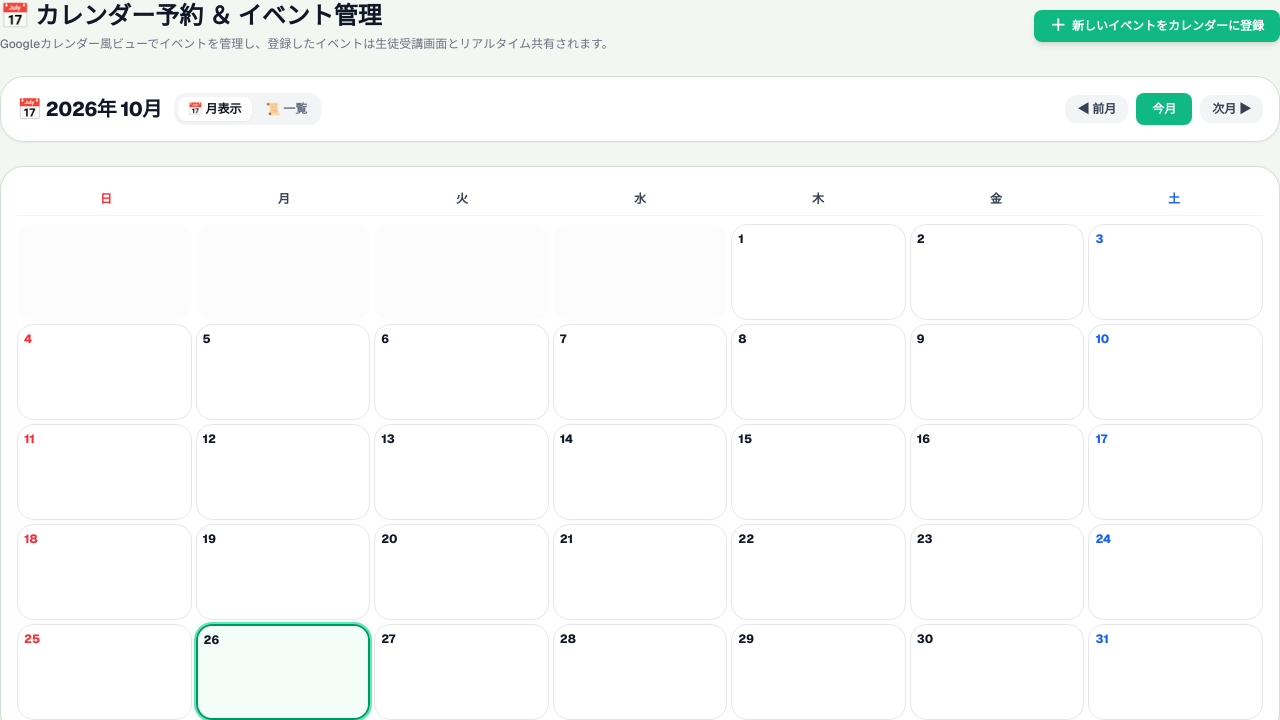
Test case: R-2: 書き込みエラーのトースト通知（正常系・異常系） › 1. イベント新規登録 (TeacherEventsView / useEvents.addEvent) › DB 書き込み成功時に成功トーストが表示される
Click the text "新しいイベントをカレンダーに登録" at [1168, 26], box [1072,18,1264,34]
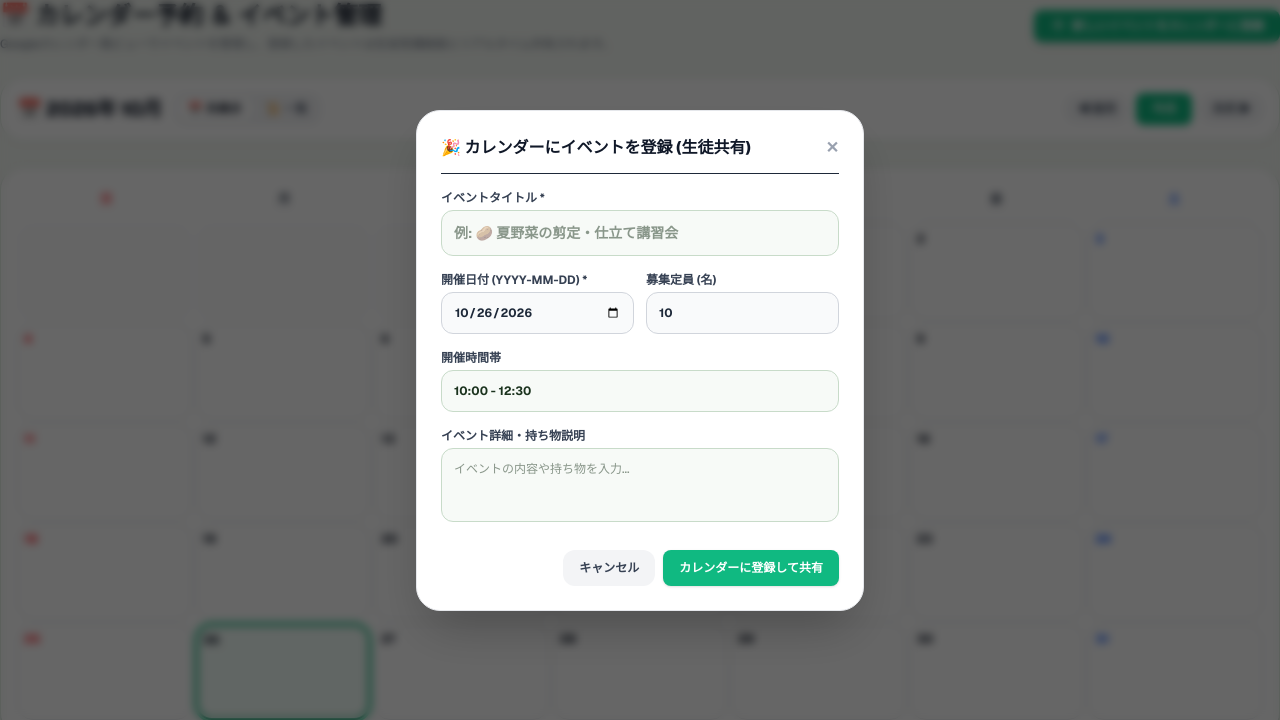
Type "秋の収穫祭" into the field with placeholder "例: 🥔 夏野菜の剪定・仕立て講習会" at [640, 232], box [441,210,839,256]
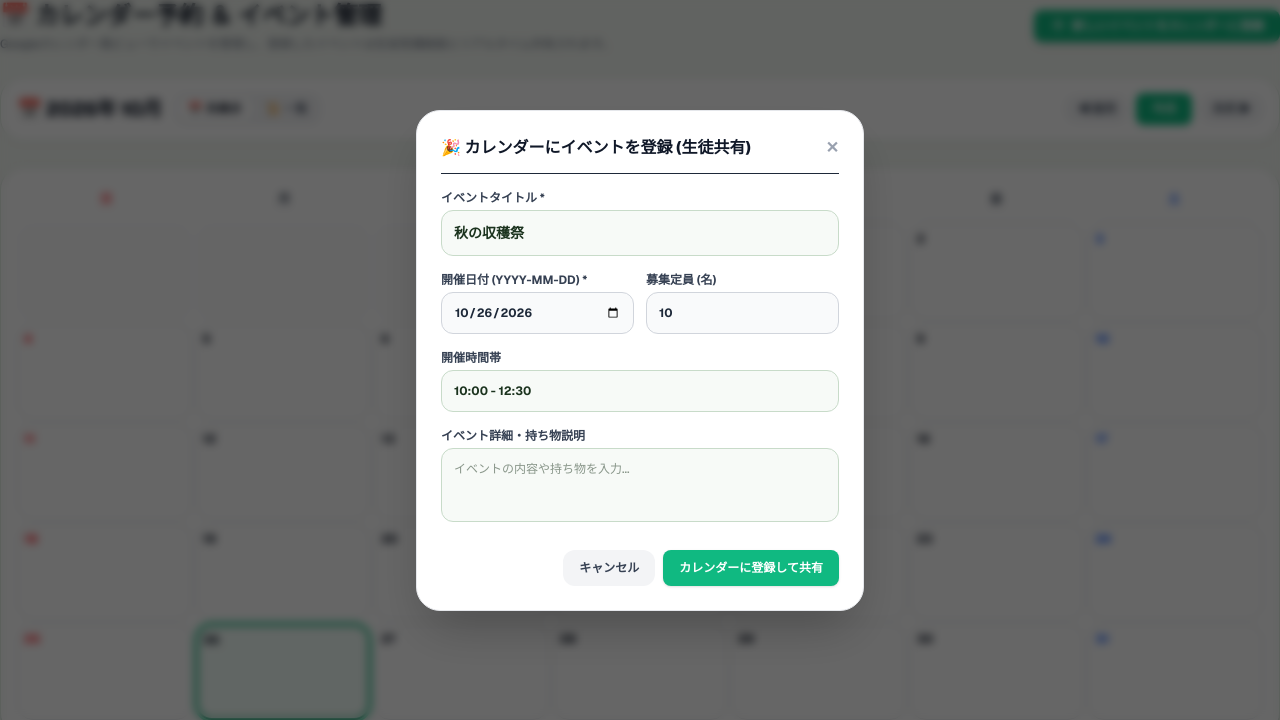
Click the button "カレンダーに登録して共有" at [751, 568], box [663,550,839,586]
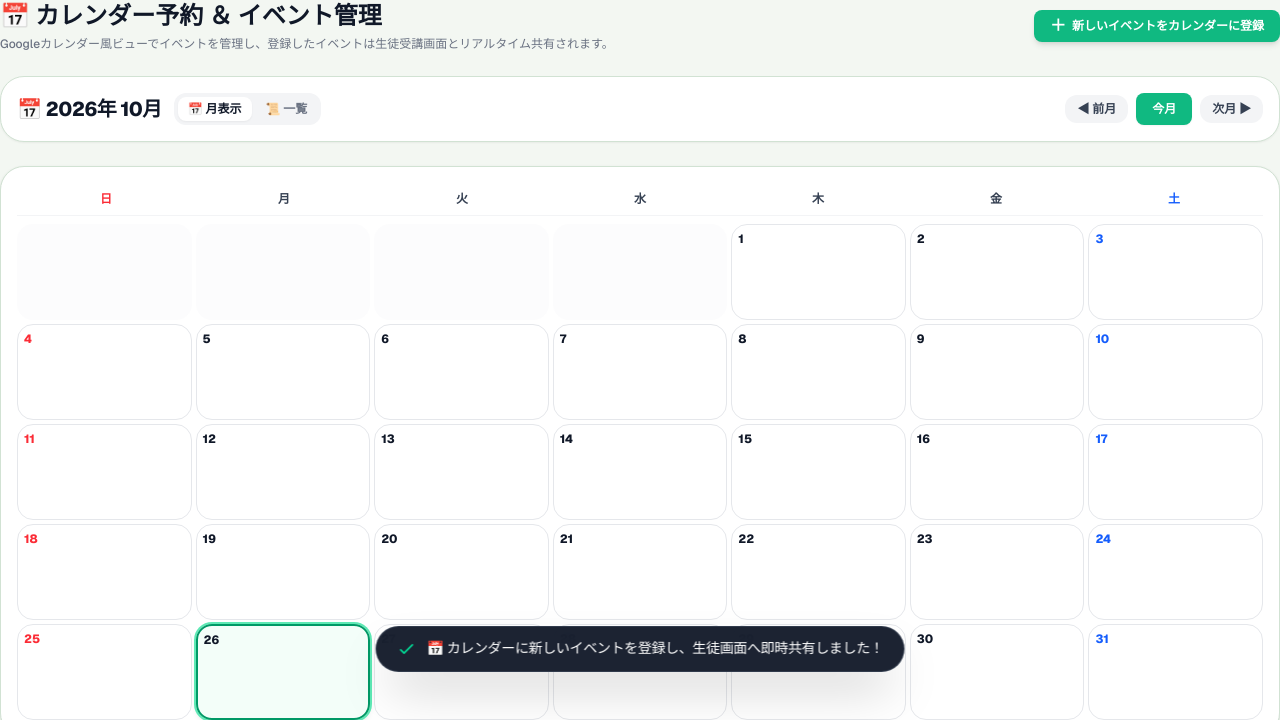
Result: the text "📅 カレンダーに新しいイベントを登録し、生徒画面へ即時共有しました！" is shown at [426,639,884,659]
